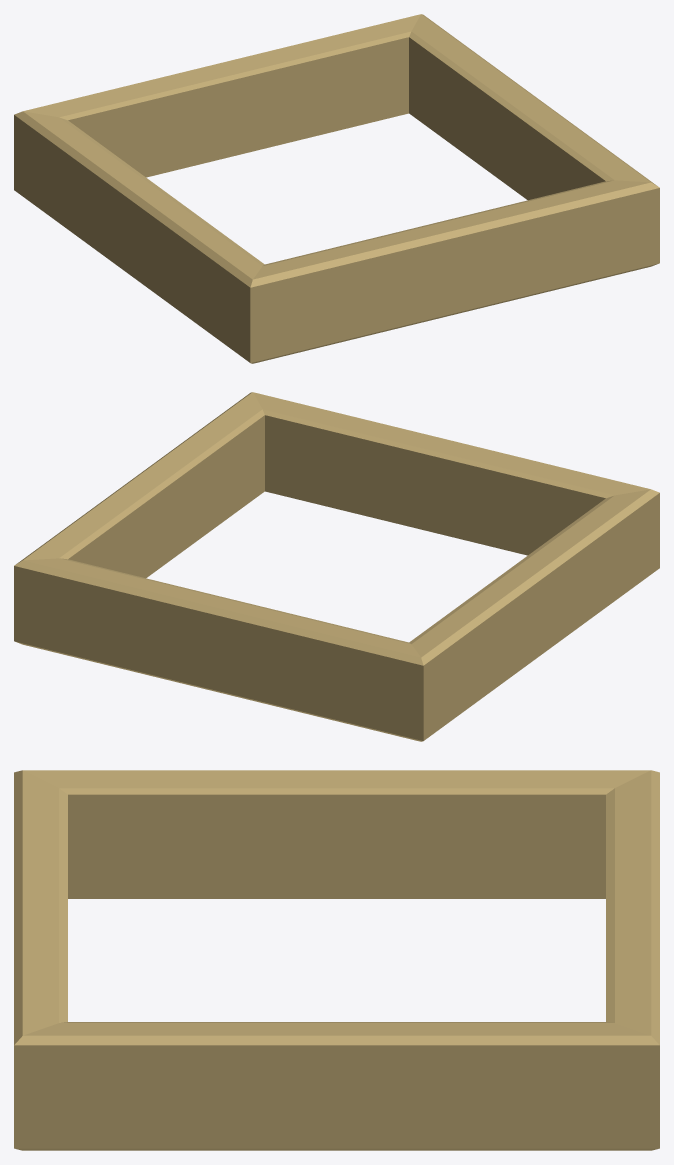
Rendered from garden_bed_frame.glb.
3 renders of one model, top to bottom at view 1: azimuth 30°, elevation 25°; view 2: azimuth 150°, elevation 25°; view 3: azimuth 270°, elevation 25°, orthographic. The views are drawn at different scales.
Visible parts, largest first — view 1: GardenBed.001; view 2: GardenBed.001; view 3: GardenBed.001.
Part boxes in pixels (x1,y1,x2,y2): GardenBed.001: (14, 14, 659, 363); GardenBed.001: (14, 392, 659, 741); GardenBed.001: (14, 770, 659, 1150).
Bounding box in the file's own units: 1.44 × 0.2837 × 1.44.
